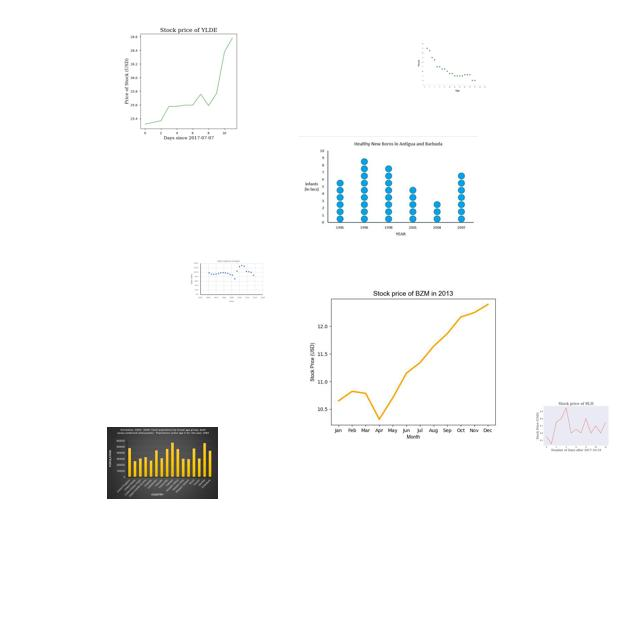Graph: (301, 279, 520, 443), (97, 19, 276, 142), (298, 136, 478, 241), (107, 427, 218, 499), (533, 394, 617, 457), (416, 41, 488, 93), (190, 259, 266, 303)
